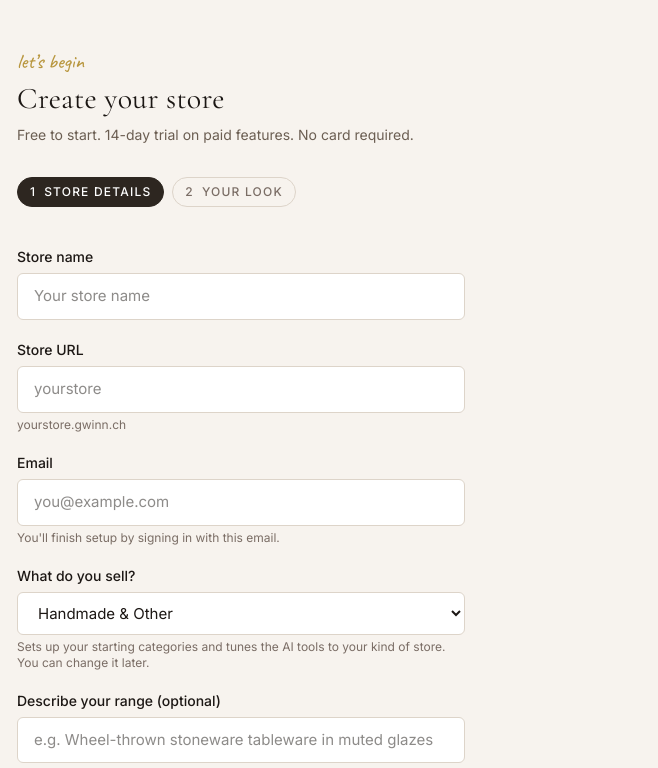
Test: Signup wizard › seeds BOTH colors from a template while the merchant hasn't set them
The image size is (658, 768).
Type "Aurora Atelier" into the field with placeholder "Your store name" at (241, 297), box [17,273,465,320]
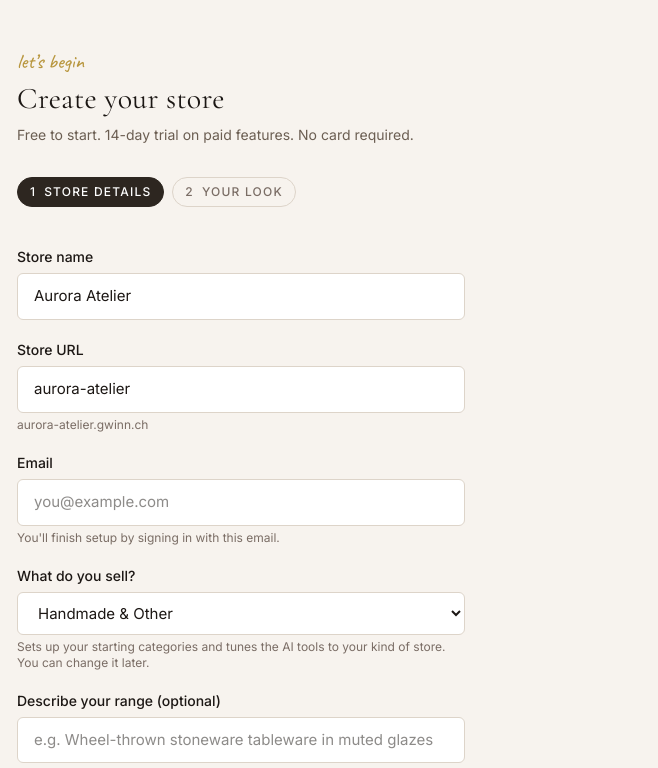
Type "owner@aurora.example" into the field with placeholder "you@example.com" at (241, 502), box [17,479,465,526]
(page scrolled)
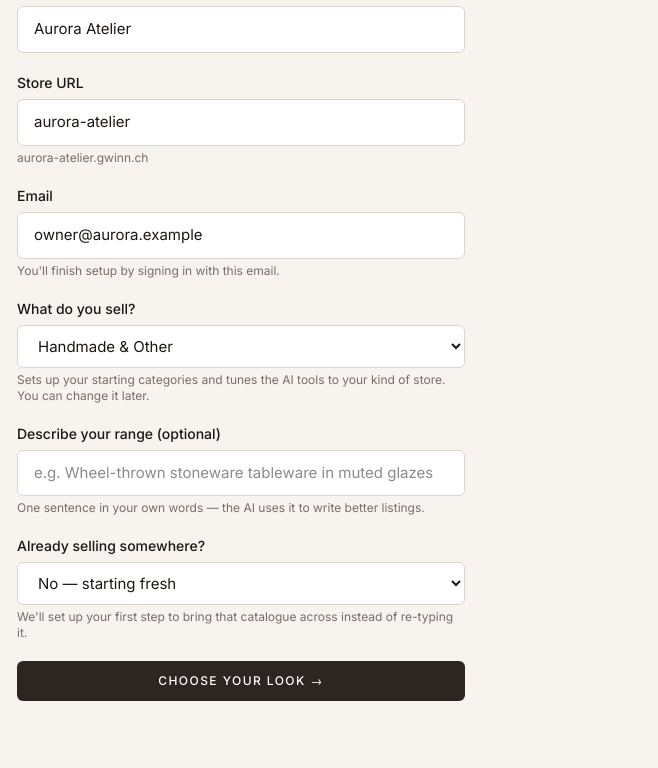
Click the button "Choose your look →" at (241, 681), box [17,661,465,701]
(page scrolled)
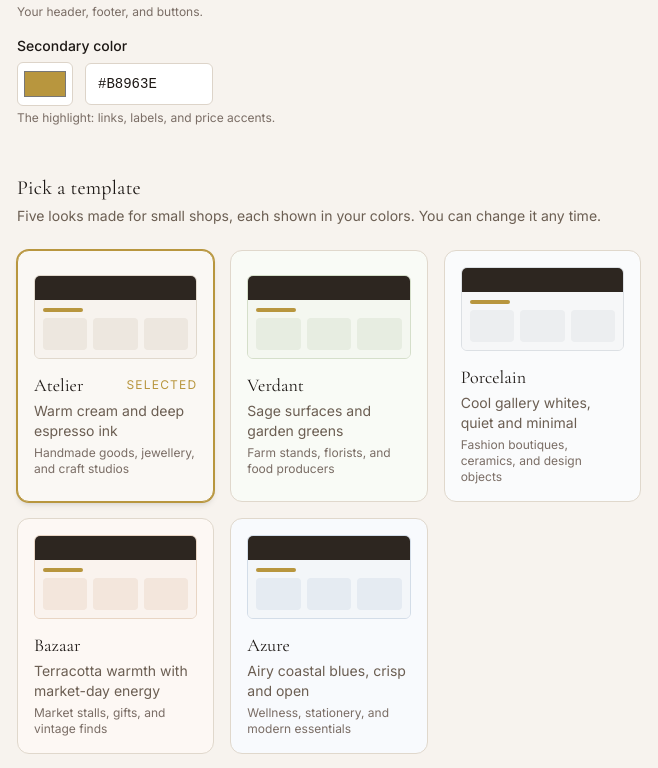
Click the button "Verdant" at (329, 376), box [230,250,428,502]
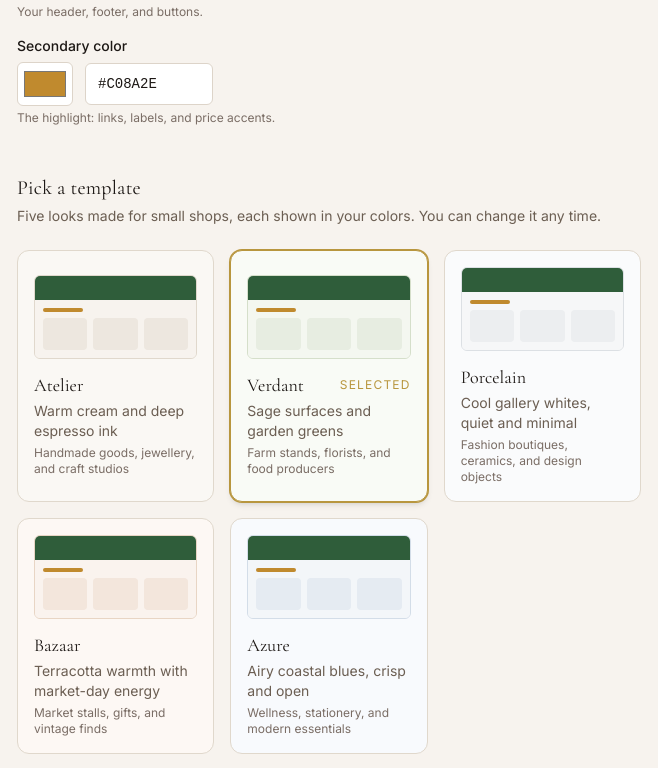
Check: the field named "Secondary color hex" holds "#C08A2E", box [85,63,213,105]
Click the button "Azure" at (329, 636), box [230,518,428,754]
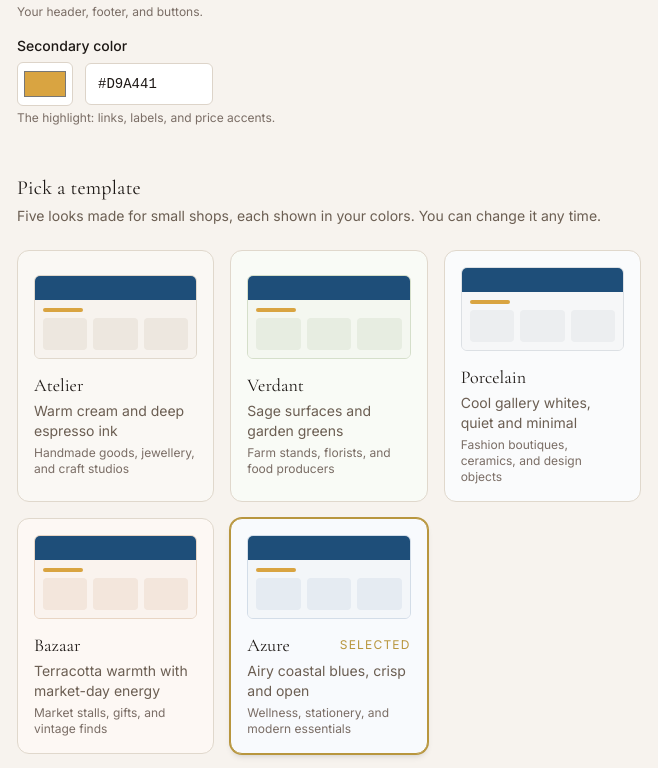
Check: the field named "Secondary color hex" holds "#D9A441", box [85,63,213,105]
